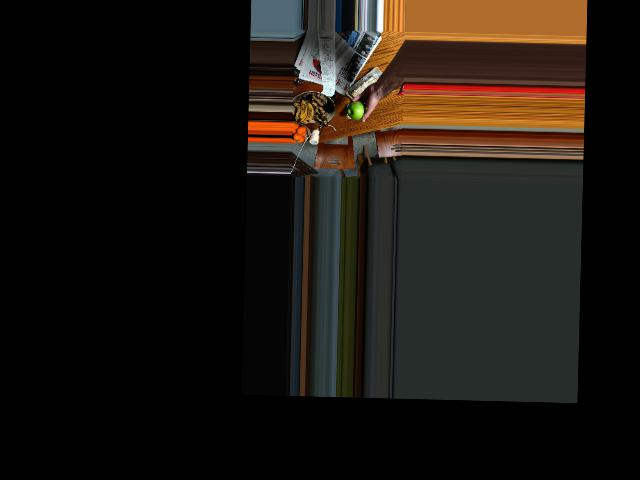apple: (346, 98, 369, 120)
